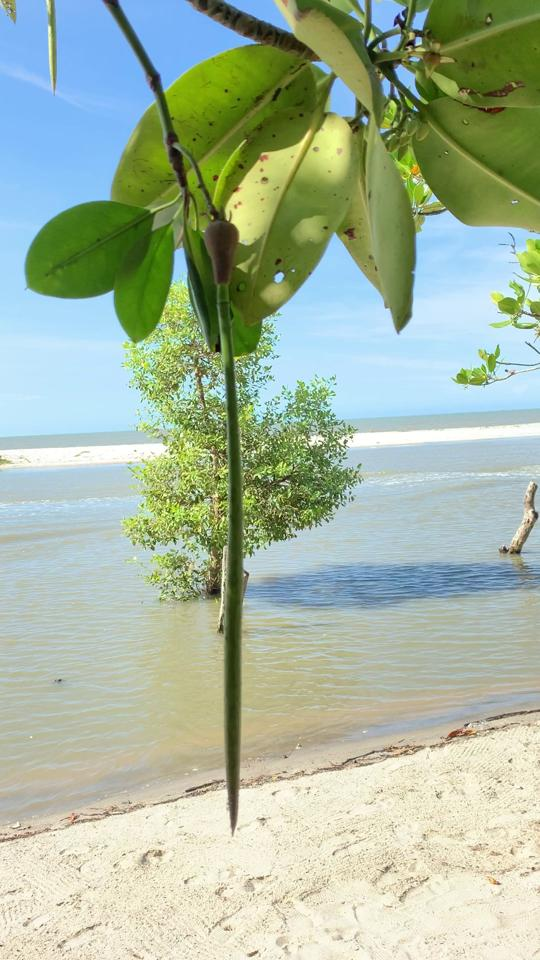setengah matang: (185, 210, 252, 838)
